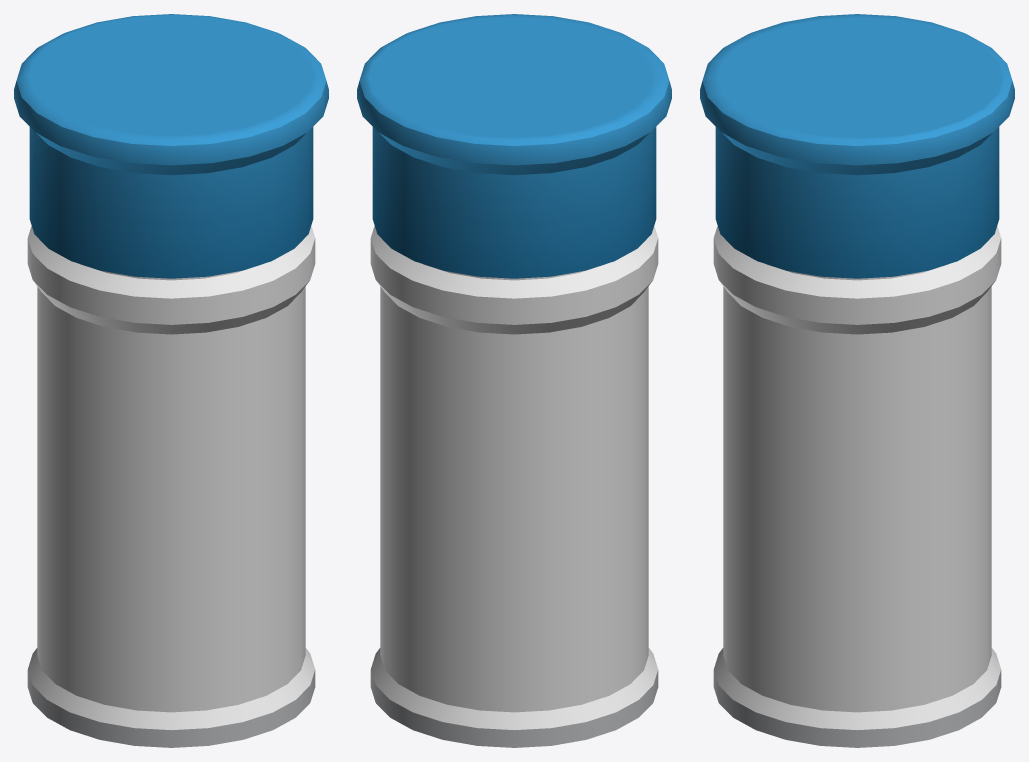
The model's file is Season Thing.fbx.
The picture shows the model from 3 angles, left to right: view 1: azimuth 30°, elevation 25°; view 2: azimuth 150°, elevation 25°; view 3: azimuth 270°, elevation 25°; orthographic projection.
Parts seen in each view (by area): view 1: Seasoning; view 2: Seasoning; view 3: Seasoning.
Part boxes in pixels (left/top/right/bottom): Seasoning: left=14, top=14, right=328, bottom=747; Seasoning: left=357, top=14, right=671, bottom=747; Seasoning: left=700, top=14, right=1014, bottom=747.
Bounding box in the file's own units: 99.6 × 213 × 99.6.
